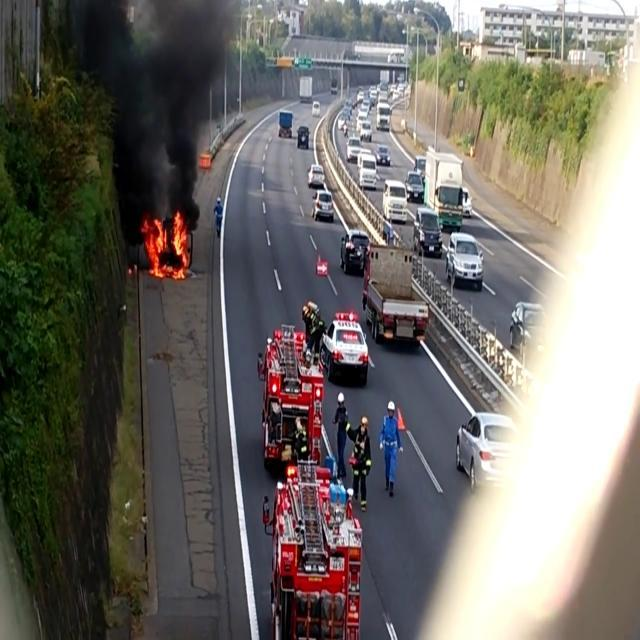Fire: (140, 203, 192, 278)
Smoke: (62, 0, 230, 201)
